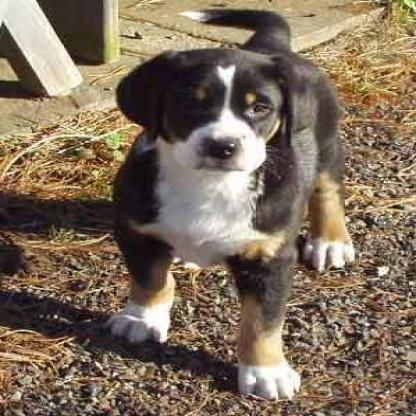Greater_Swiss_Mountain_dog: (98, 4, 354, 400)
